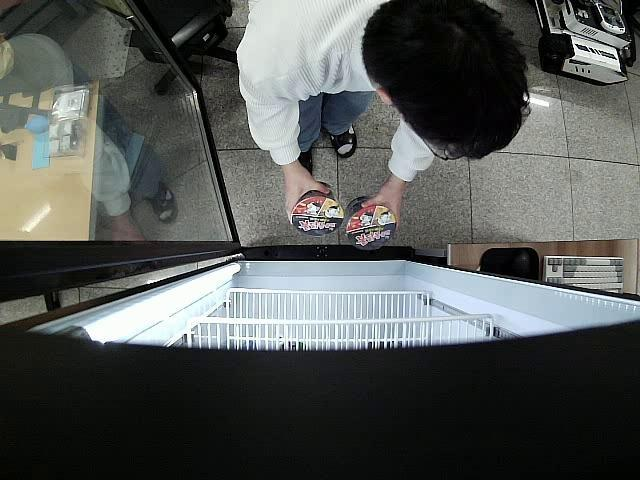07_buldak_L: (292, 182, 344, 236), (343, 198, 398, 249)
